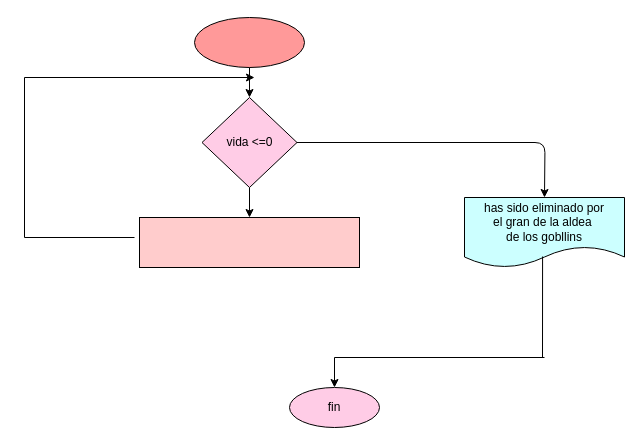
Image size: 642x445. Some labels were removed from this diagram. The centre of each missing label's shape, as x and y in pixels:
"daño=random.randint(5.15) vida=daño-vida" belongs at (x=249, y=242).
"inicio" belongs at (x=249, y=42).
